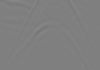hyperbola: (15, 19, 86, 61)
